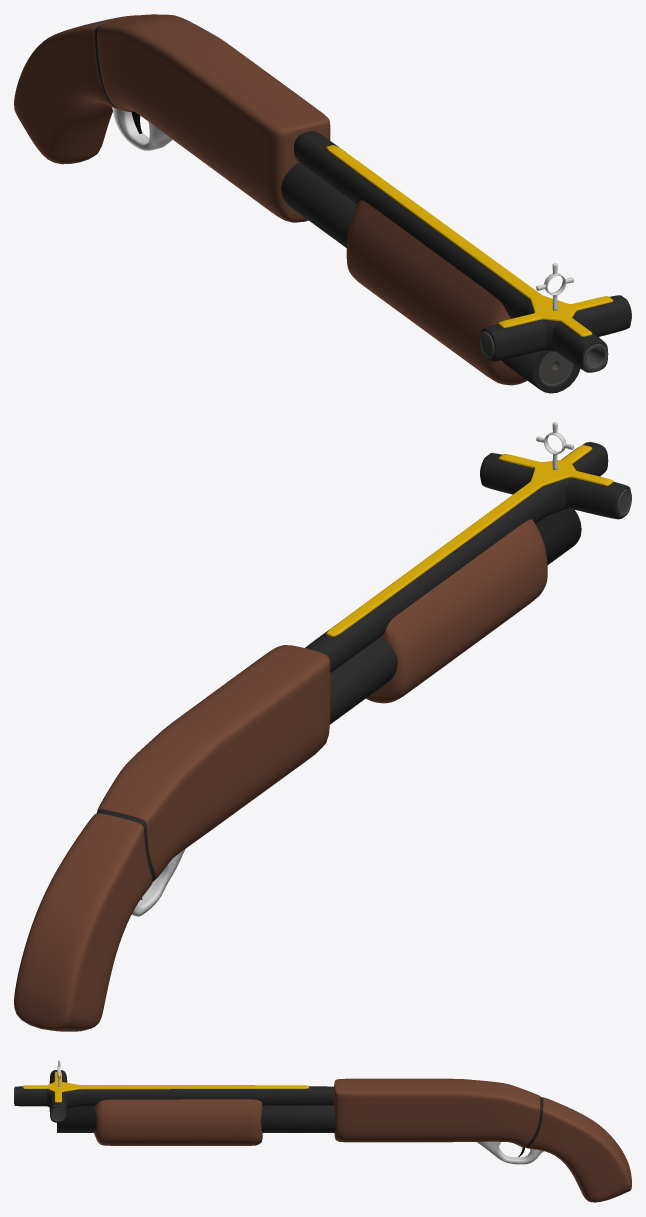
File: Shotgun.fbx
3 renders of one model, top to bottom at view 1: azimuth 30°, elevation 25°; view 2: azimuth 150°, elevation 25°; view 3: azimuth 270°, elevation 25°, orthographic. The views are drawn at different scales.
Parts seen in each view (by area): view 1: Cylinder.002, Cylinder.001; view 2: Cylinder.002, Cylinder.001; view 3: Cylinder.002, Cylinder.001.
Boxes of the visible parts, x1,y1,x2,y2 form: Cylinder.002: (14, 14, 631, 393); Cylinder.001: (346, 200, 527, 385); Cylinder.002: (14, 422, 631, 1031); Cylinder.001: (366, 519, 547, 703); Cylinder.002: (14, 1060, 631, 1202); Cylinder.001: (94, 1099, 262, 1145).
Bounding box in the file's own units: 14.3 × 24.46 × 99.27.
